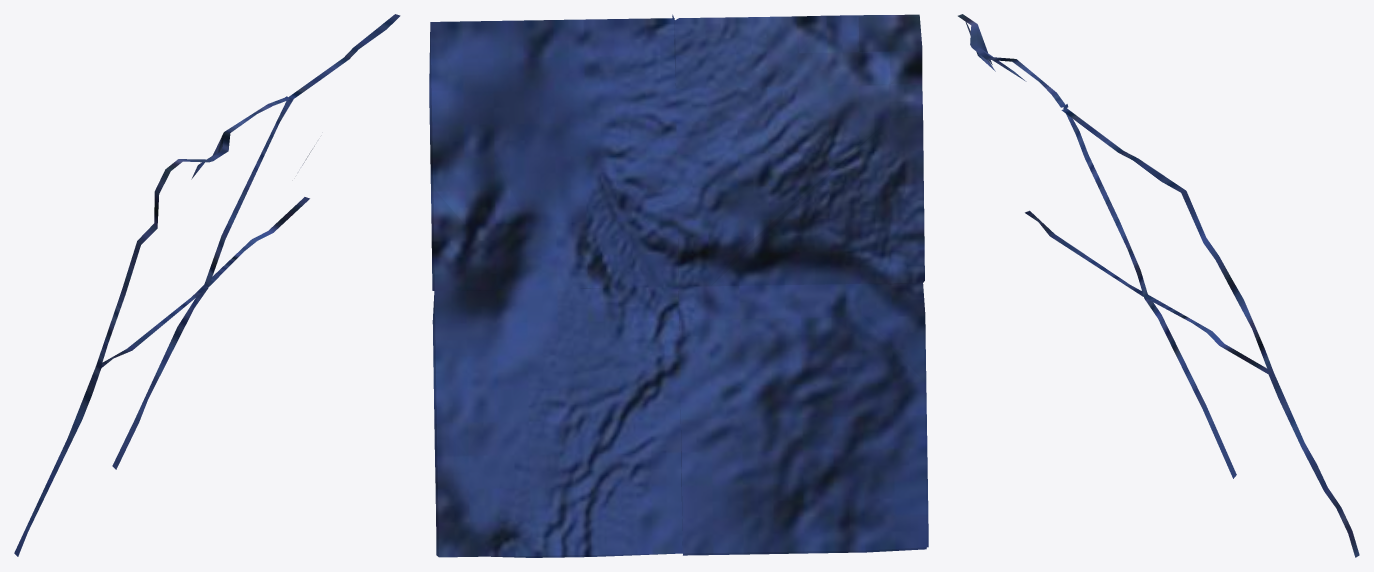
3 views of the same model, side by side, from view 1: azimuth 30°, elevation 25°; view 2: azimuth 150°, elevation 25°; view 3: azimuth 270°, elevation 25° (orthographic). The views are drawn at different scales.
Size of the model in its own units: 38830 by 37083 by 31725.
1 material, 1 textured.
